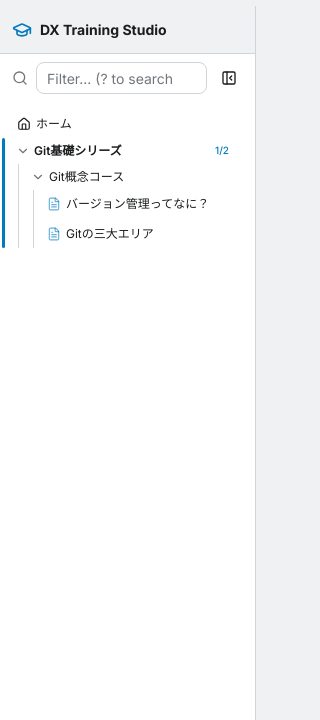
ContentTreePane › 名前フィルタで一致レッスンと祖先だけが残る
Type "三大" into the field with placeholder "Filter... (? to search contents)" at (122, 78), box [36,62,207,94]
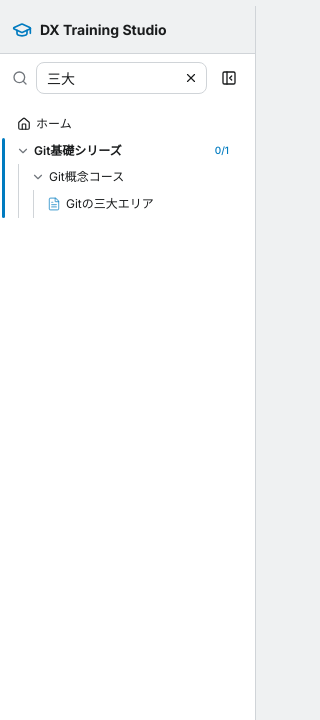
Expected: the button "Gitの三大エリア" is shown, [66,196,154,211]
Expected: the button "バージョン管理ってなに？" is gone
クリアで全件へ戻る
Click the button named "検索をクリア" at (191, 78), box [177,64,205,92]
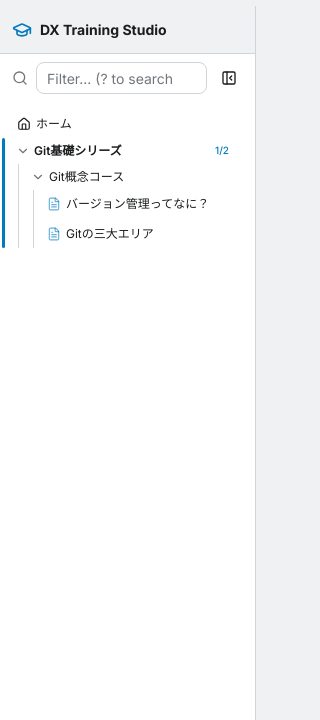
Expected: the button "バージョン管理ってなに？" is shown, [66,196,231,212]
